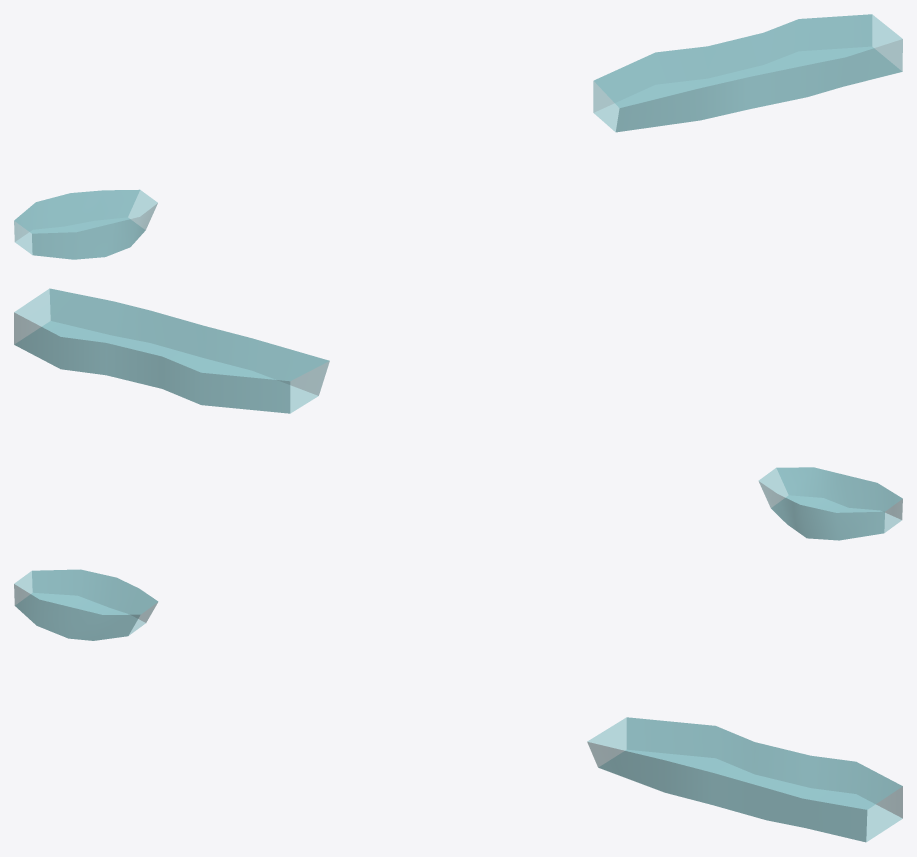
File: Water.fbx
3 views of the same model, one above another, from view 1: azimuth 30°, elevation 25°; view 2: azimuth 150°, elevation 25°; view 3: azimuth 330°, elevation 25° (orthographic).
Parts seen in each view (by area): view 1: Water; view 2: Water; view 3: Water.
Part boxes in pixels (x1=…): Water: x1=14, y1=14, x2=902, y2=259; Water: x1=14, y1=288, x2=902, y2=540; Water: x1=14, y1=569, x2=902, y2=842.
Bounding box in the file's own units: 733 × 32.89 × 76.26.
